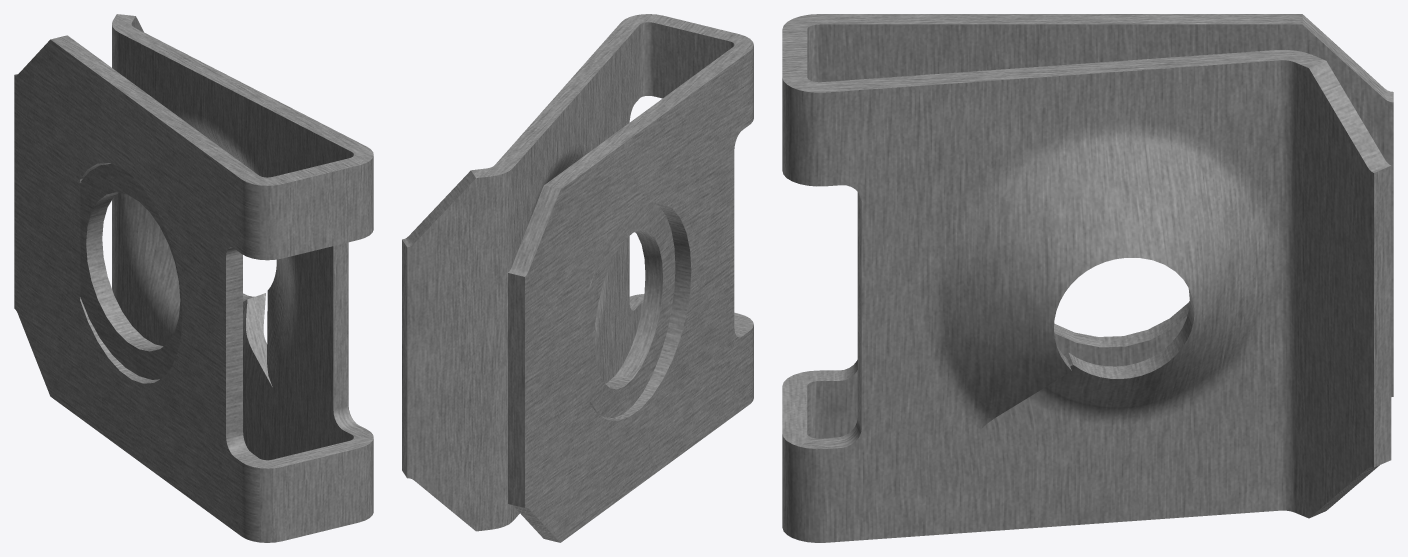
The model's file is porca_rapida-modelo27.gltf.
The picture shows the model from 3 angles, left to right: view 1: azimuth 30°, elevation 25°; view 2: azimuth 150°, elevation 25°; view 3: azimuth 270°, elevation 25°; orthographic projection. The views are drawn at different scales.
Visible parts, largest first — view 1: 27.818.048.70; view 2: 27.818.048.70; view 3: 27.818.048.70.
Boxes of the visible parts, x1,y1,x2,y2 form: 27.818.048.70: (14, 14, 373, 542); 27.818.048.70: (402, 14, 753, 542); 27.818.048.70: (782, 14, 1393, 542).
Size of the model in its own units: 0.5112 by 1.2 by 1.48.
